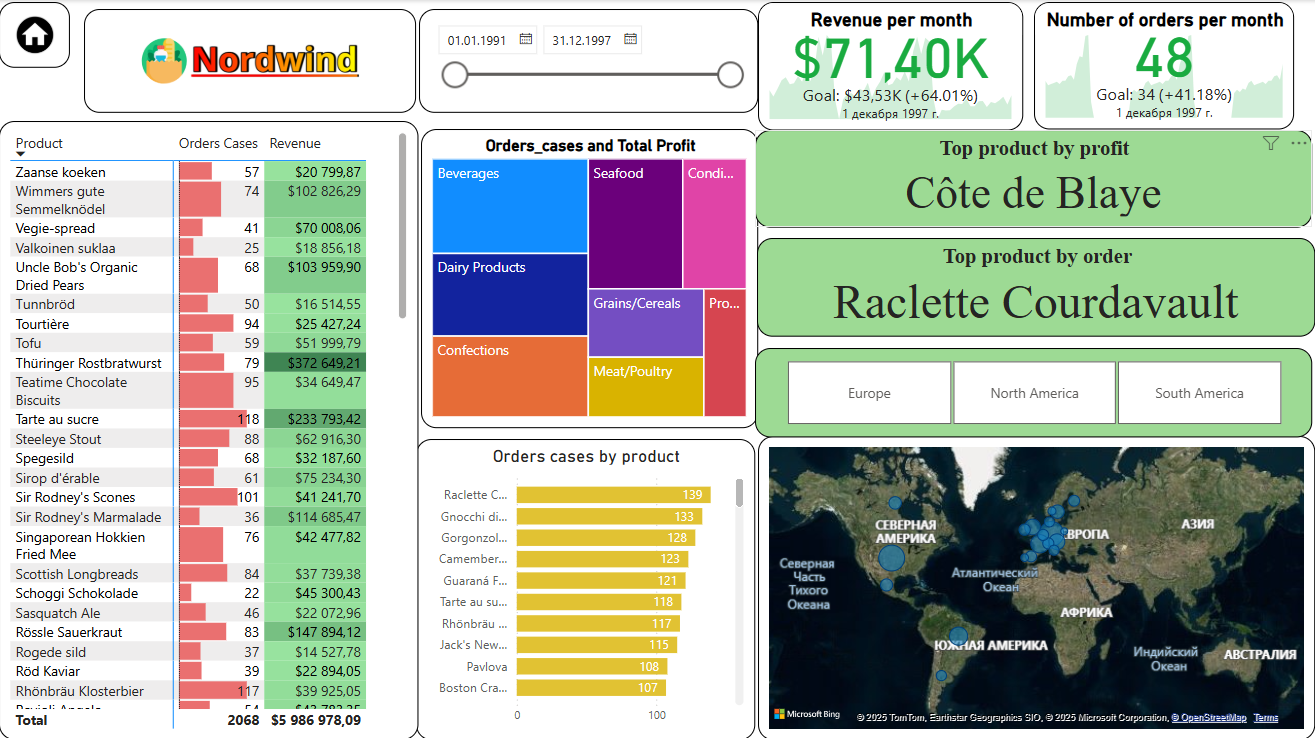

This screenshot's page, from the dashboard's own definition file:
{"tool":"powerbi","page":{"name":"Executive summary","canvas":[1280,720],"ordinal":1},"visuals":[{"type":"image","box":[82.7,8.8,322.9,101.2],"z":0},{"type":"treemap","title":"Orders_cases and Total Profit","fields":{"Group":["categories.category_name"],"Values":["Nw_orders_derails_total.Orders_cases_dist"]},"box":[410.4,125.1,328,291.4],"z":1000},{"type":"barChart","title":"Orders cases by product","fields":{"Category":["products.product_name"],"Y":["Nw_orders_derails_total.Orders_cases_dist"]},"box":[405.8,427.2,329.5,292.9],"z":2000},{"type":"pivotTable","fields":{"Rows":["products.product_name"],"Values":["Nw_orders_derails_total.Orders_cases_dist","Nw_orders_derails_total.Revenue"]},"box":[0,117.7,407.5,602.1],"z":3000},{"type":"kpi","title":" Revenue per month","fields":{"Indicator":["Nw_orders_derails_total.Revenue"],"TrendLine":["Calendar.Start of Month"],"Goal":["Nw_orders_derails_total.Revenue_prev_month"]},"box":[738.4,1.5,257.8,125.1],"z":4000},{"type":"slicer","fields":{"Values":["Calendar.Date"]},"box":[408.9,9.2,329.5,100.7],"z":5000},{"type":"kpi","title":"Number of orders per month","fields":{"TrendLine":["Calendar.Start of Month"],"Goal":["Nw_orders_derails_total.Previous Month Orders"],"Indicator":["Nw_orders_derails_total.Orders_cases_dist"]},"box":[1006.9,1.5,253.3,123.6],"z":6000},{"type":"card","title":"Top product by profit","fields":{"Values":["Min(products.product_name)"]},"box":[735.4,126.6,541.6,94.6],"z":7000},{"type":"card","title":"Top product by order","fields":{"Values":["Min(products.product_name)"]},"box":[736.9,231.9,543.1,96.1],"z":8000},{"type":"map","fields":{"Category":["Nw_orders_total.ship_country"],"Size":["Nw_orders_derails_total.Total_Profit"]},"box":[738.1,423.6,541.9,296.3],"z":9000},{"type":"slicer","fields":{"Values":["Nw_orders_total.Continent"]},"box":[735.4,338.7,541.6,87],"z":10000},{"type":"image","box":[0,1.9,69.1,64.2],"z":11000}]}

Visuals, with their boxes in screenshot pixels (x1, y1, x2, y2), scaled from the page's 1280x720 canvas onto the 1315x738 screenshot:
image: {"x1": 85, "y1": 9, "x2": 417, "y2": 113}
"Orders_cases and Total Profit" treemap: {"x1": 422, "y1": 128, "x2": 759, "y2": 427}
"Orders cases by product" barChart: {"x1": 417, "y1": 438, "x2": 755, "y2": 737}
pivotTable - products.product_name x Nw_orders_derails_total.Orders_cases_dist: {"x1": 0, "y1": 121, "x2": 419, "y2": 737}
" Revenue per month" kpi: {"x1": 759, "y1": 2, "x2": 1023, "y2": 130}
slicer - Calendar.Date: {"x1": 420, "y1": 9, "x2": 759, "y2": 113}
"Number of orders per month" kpi: {"x1": 1034, "y1": 2, "x2": 1295, "y2": 128}
"Top product by profit" card: {"x1": 756, "y1": 130, "x2": 1312, "y2": 227}
"Top product by order" card: {"x1": 757, "y1": 238, "x2": 1314, "y2": 336}
map - Nw_orders_total.ship_country x Nw_orders_derails_total.Total_Profit: {"x1": 758, "y1": 434, "x2": 1314, "y2": 737}
slicer - Nw_orders_total.Continent: {"x1": 756, "y1": 347, "x2": 1312, "y2": 436}
image: {"x1": 0, "y1": 2, "x2": 71, "y2": 68}
